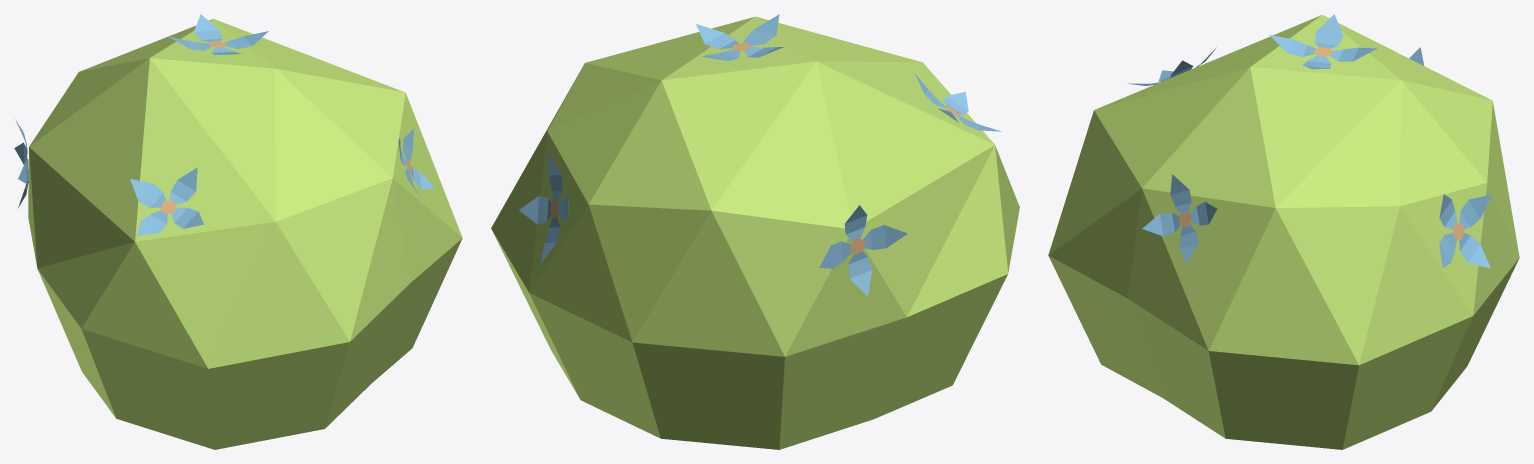
The model's file is FlowerBush_h_m_05.fbx.
3 renders of one model, left to right at view 1: azimuth 30°, elevation 25°; view 2: azimuth 150°, elevation 25°; view 3: azimuth 270°, elevation 25°, orthographic. The views are drawn at different scales.
Visible parts, largest first — view 1: FlowerBush_h_m_05; view 2: FlowerBush_h_m_05; view 3: FlowerBush_h_m_05.
Boxes of the visible parts, x1=… form: FlowerBush_h_m_05: x1=14, y1=14, x2=462, y2=449; FlowerBush_h_m_05: x1=491, y1=14, x2=1019, y2=449; FlowerBush_h_m_05: x1=1048, y1=14, x2=1519, y2=449.
Bounding box in the file's own units: 1.65 × 1.28 × 1.65.
